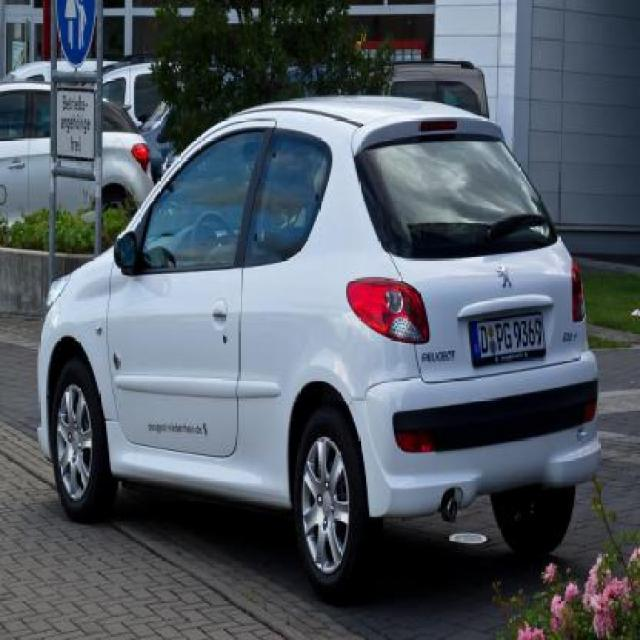License-Plates: (465, 314, 548, 360)
